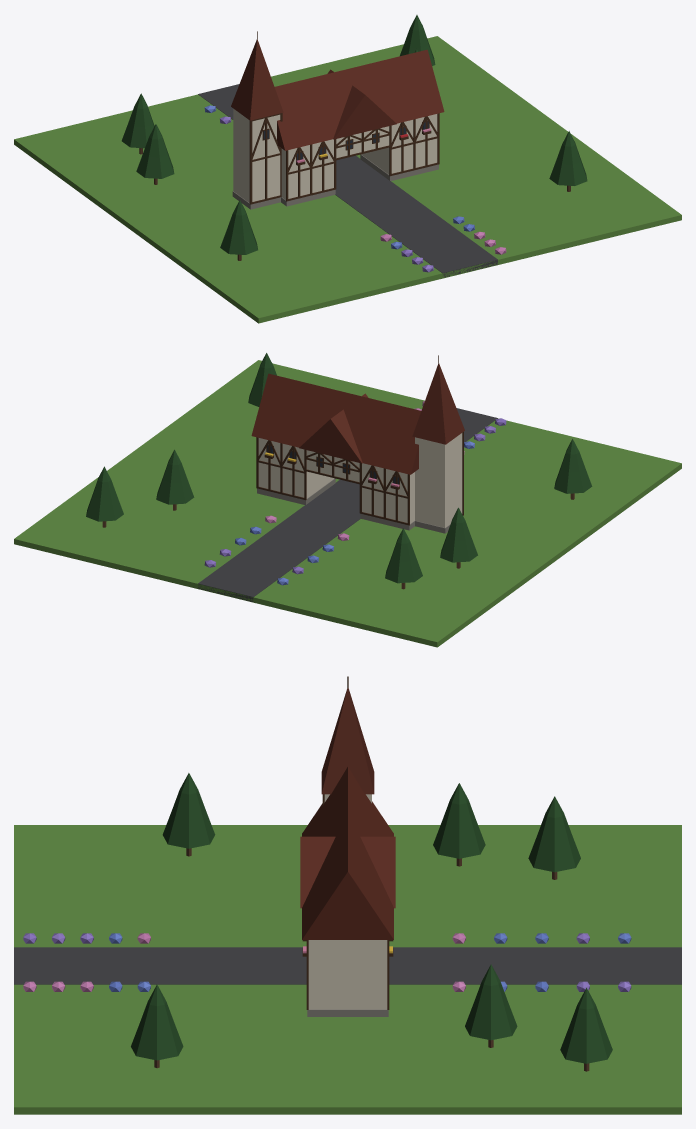
Rendered from portico_gramado.glb.
3 views of the same model, one above another, from view 1: azimuth 30°, elevation 25°; view 2: azimuth 150°, elevation 25°; view 3: azimuth 270°, elevation 25° (orthographic). The views are drawn at different scales.
Visible parts, largest first — view 1: portico_gramado; view 2: portico_gramado; view 3: portico_gramado.
Part boxes in pixels (x1=…): portico_gramado: x1=14, y1=15, x2=681, y2=323; portico_gramado: x1=14, y1=353, x2=681, y2=647; portico_gramado: x1=14, y1=676, x2=681, y2=1114.
Size of the model in its own units: 84 by 32.8 by 84.
